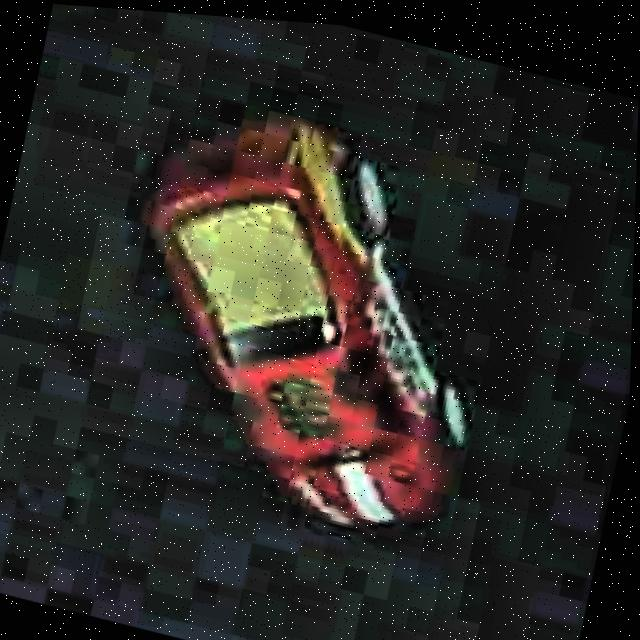car: (81, 71, 527, 565)
